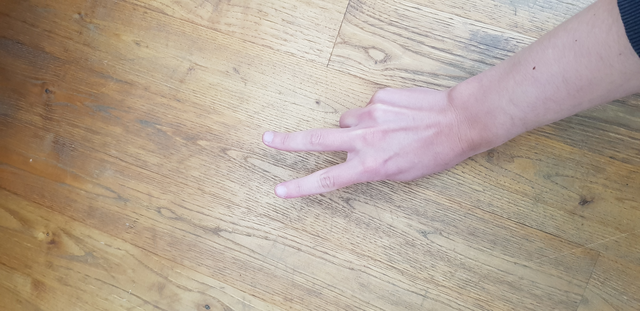Scissors: (248, 81, 485, 211)
